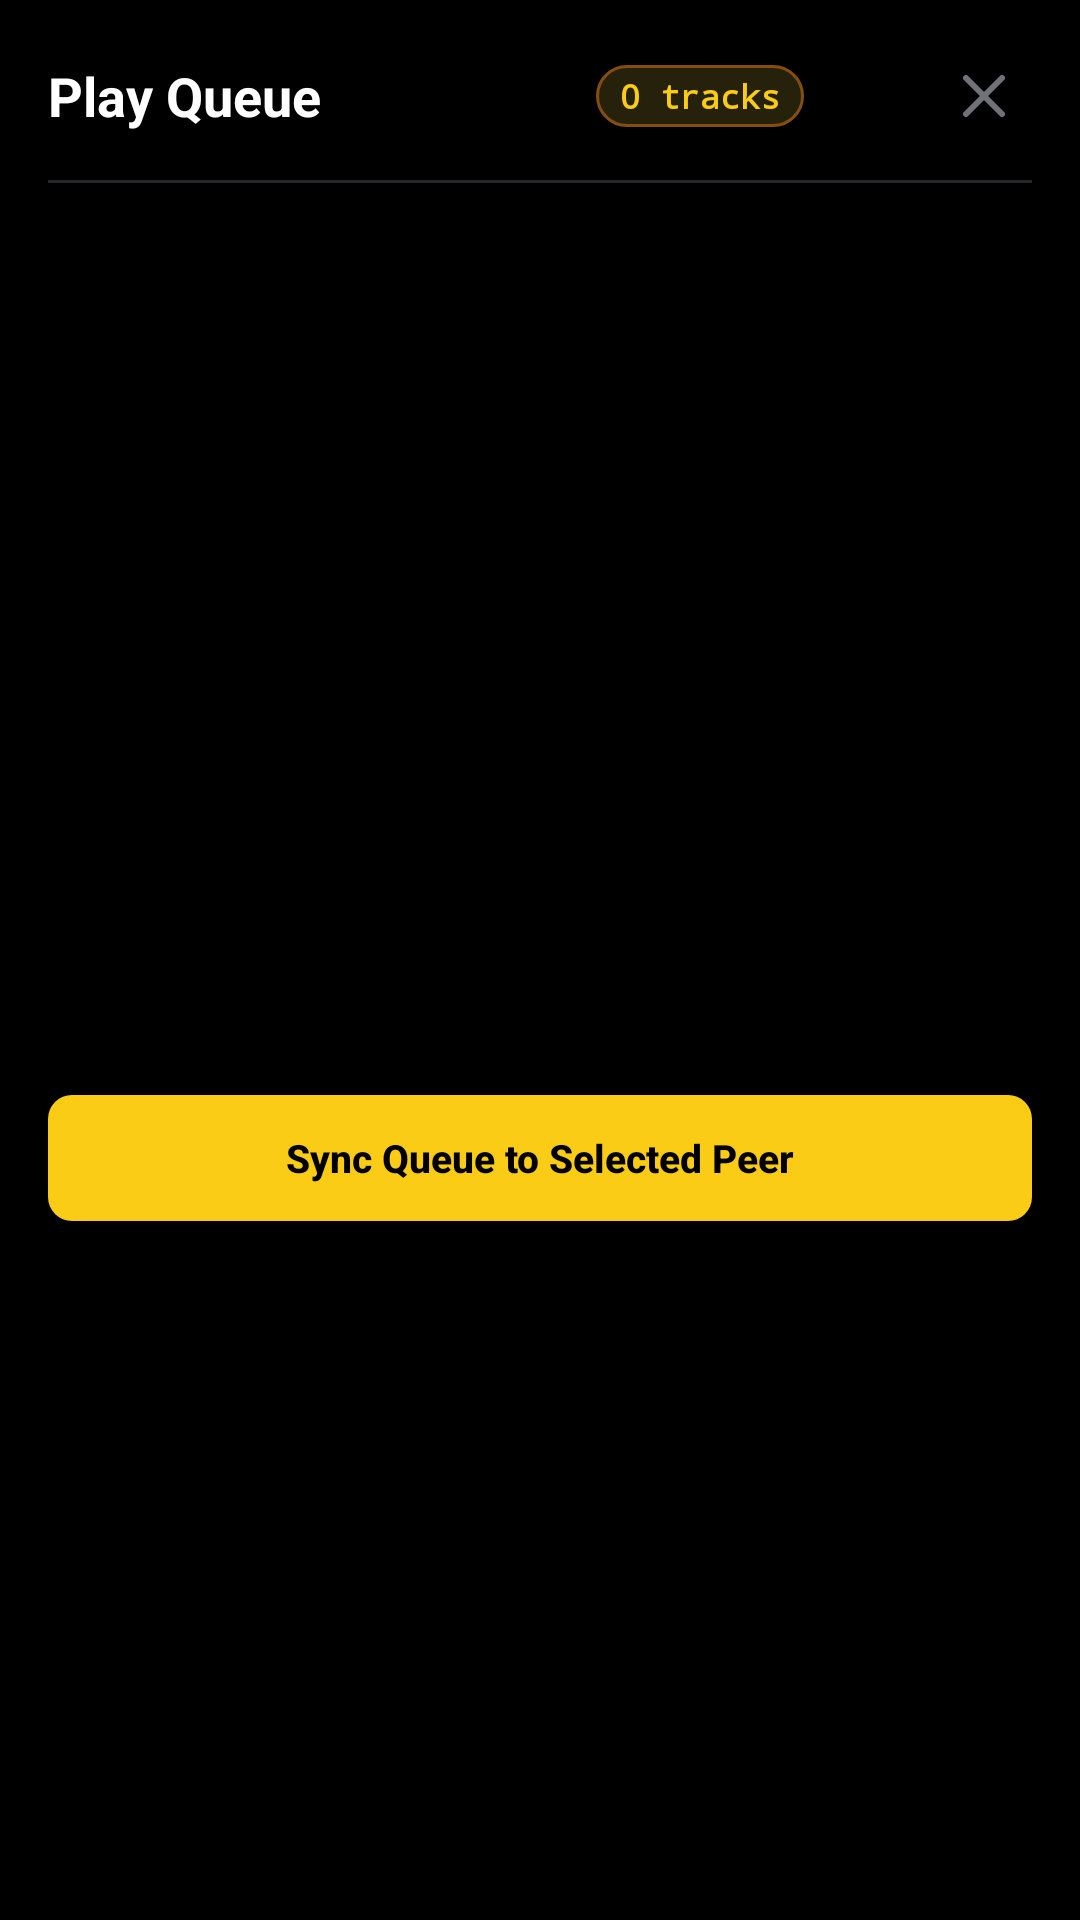

Locate icon controls on the screen. Image size 1080w x 1920h, boxes as box(x1, y1, x2, y2).
Close: box(963, 75, 1005, 117)
